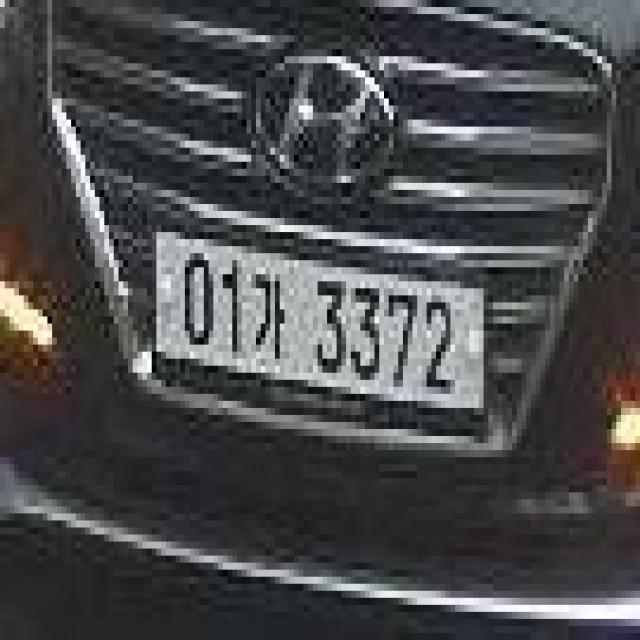illegal_plate: (150, 220, 489, 440)
